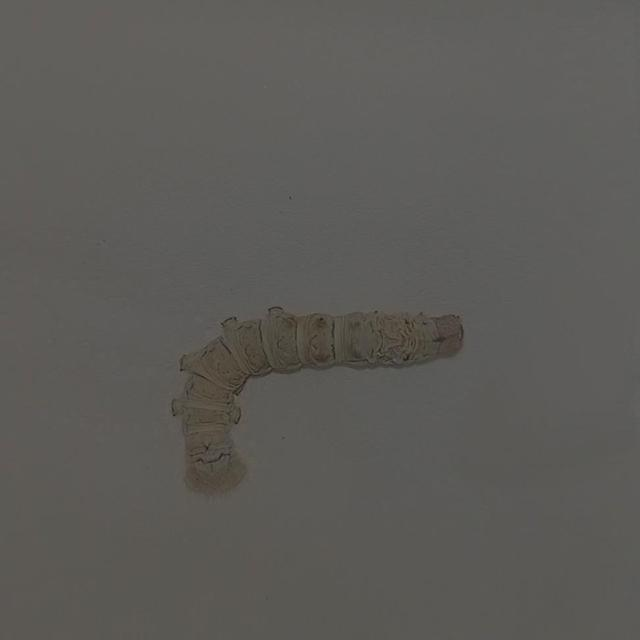Healthy: (133, 276, 498, 508)
